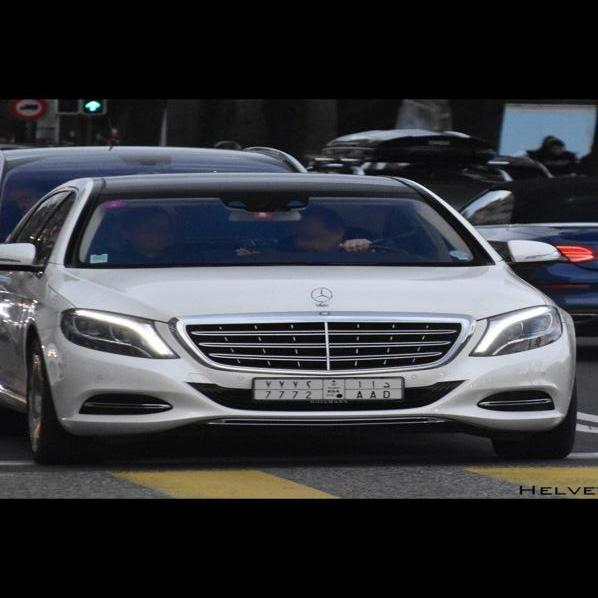numberplate: (252, 375, 409, 403)
